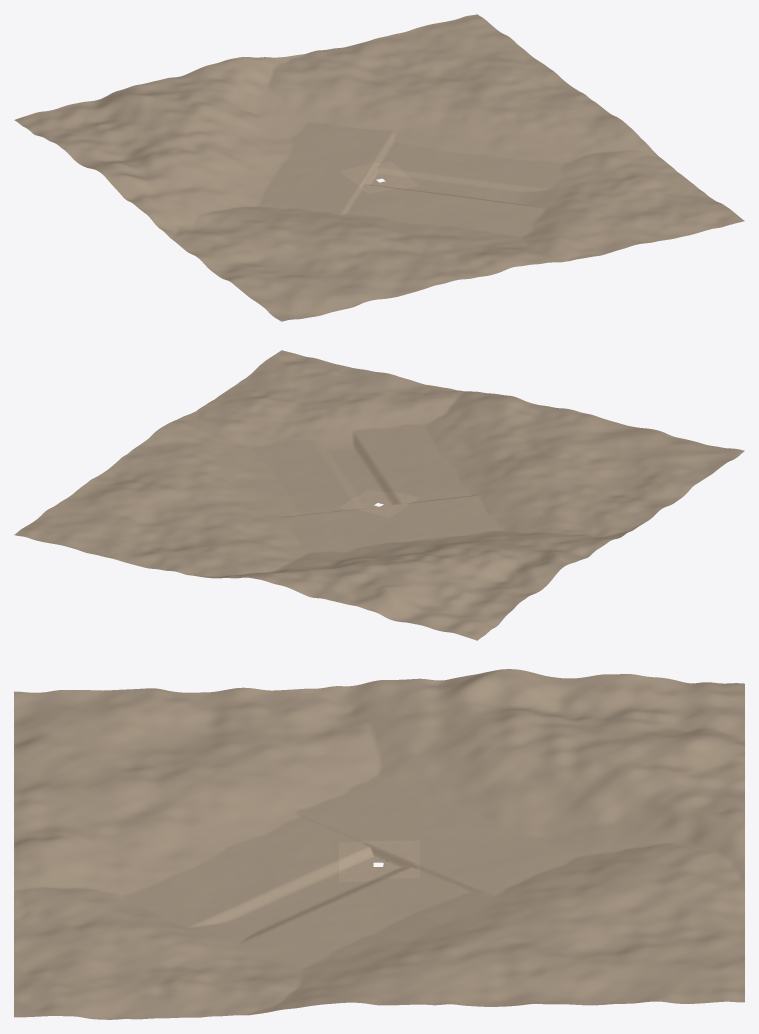
Rendered from Terrain.glb.
3 views of the same model, one above another, from view 1: azimuth 30°, elevation 25°; view 2: azimuth 150°, elevation 25°; view 3: azimuth 270°, elevation 25° (orthographic). The views are drawn at different scales.
Visible parts, largest first — view 1: Ring_42, Ring_33, Ring_23, Ring_13, Ring_52, Ring_28, Ring_36, Ring_4, Ring_14, Ring_29, Ring_34, Ring_54 (+68 smaller); view 2: Ring_1, Ring_59, Ring_68, Ring_60, Ring_67, Ring_2, Ring_10, Ring_46, Ring_0, Ring_63, Ring_25, Ring_45 (+68 smaller); view 3: Ring_12, Ring_29, Ring_20, Ring_21, Ring_56, Ring_4, Ring_37, Ring_66, Ring_36, Ring_46, Ring_28, Ring_76 (+68 smaller).
Boxes of the visible parts, bbox=[...] form: Ring_42: bbox=[493, 114, 573, 159]; Ring_33: bbox=[412, 105, 492, 148]; Ring_23: bbox=[331, 94, 411, 136]; Ring_13: bbox=[250, 83, 330, 123]; Ring_52: bbox=[575, 123, 655, 165]; Ring_28: bbox=[155, 157, 235, 194]; Ring_36: bbox=[133, 194, 213, 231]; Ring_4: bbox=[220, 57, 300, 92]; Ring_14: bbox=[301, 71, 381, 111]; Ring_29: bbox=[206, 155, 286, 190]; Ring_34: bbox=[464, 91, 544, 132]; Ring_54: bbox=[244, 232, 324, 268]; Ring_1: bbox=[375, 585, 455, 626]; Ring_59: bbox=[295, 415, 376, 455]; Ring_68: bbox=[325, 393, 405, 431]; Ring_60: bbox=[244, 402, 324, 441]; Ring_67: bbox=[377, 405, 457, 443]; Ring_2: bbox=[323, 573, 403, 611]; Ring_10: bbox=[404, 565, 484, 602]; Ring_46: bbox=[472, 482, 552, 517]; Ring_0: bbox=[426, 603, 506, 640]; Ring_63: bbox=[583, 448, 663, 484]; Ring_25: bbox=[125, 482, 205, 516]; Ring_45: bbox=[523, 491, 603, 527]; Ring_12: bbox=[582, 775, 663, 835]; Ring_29: bbox=[420, 748, 501, 806]; Ring_20: bbox=[501, 741, 582, 797]; Ring_21: bbox=[501, 786, 582, 840]; Ring_56: bbox=[176, 795, 257, 843]; Ring_4: bbox=[663, 810, 744, 861]; Ring_37: bbox=[339, 718, 419, 770]; Ring_66: bbox=[95, 834, 176, 879]; Ring_36: bbox=[339, 678, 419, 728]; Ring_46: bbox=[257, 760, 338, 806]; Ring_28: bbox=[420, 711, 501, 763]; Ring_76: bbox=[14, 868, 95, 912].
Bounding box in the file's own units: 2700 × 182 × 2700.
